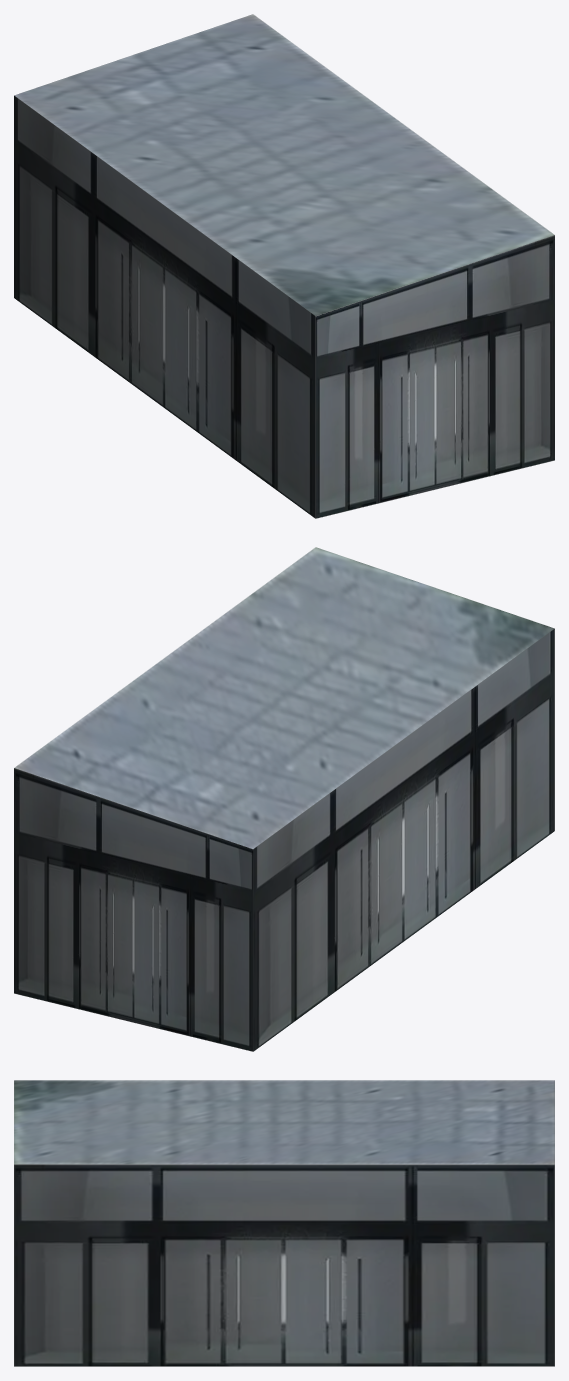
File: XiGeShan.fbx
The picture shows the model from 3 angles, top to bottom: view 1: azimuth 30°, elevation 25°; view 2: azimuth 150°, elevation 25°; view 3: azimuth 270°, elevation 25°; orthographic projection. The views are drawn at different scales.
Visible parts, largest first — view 1: XGSJSC; view 2: XGSJSC; view 3: XGSJSC.
Boxes of the visible parts, bbox=[...] form: XGSJSC: bbox=[14, 14, 554, 518]; XGSJSC: bbox=[14, 547, 554, 1051]; XGSJSC: bbox=[14, 1080, 554, 1366].
Size of the model in its own units: 481 by 433 by 1051.
1 material, 1 textured.
